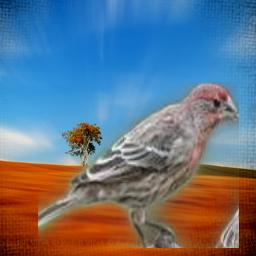Sparrow: (38, 82, 239, 248)
